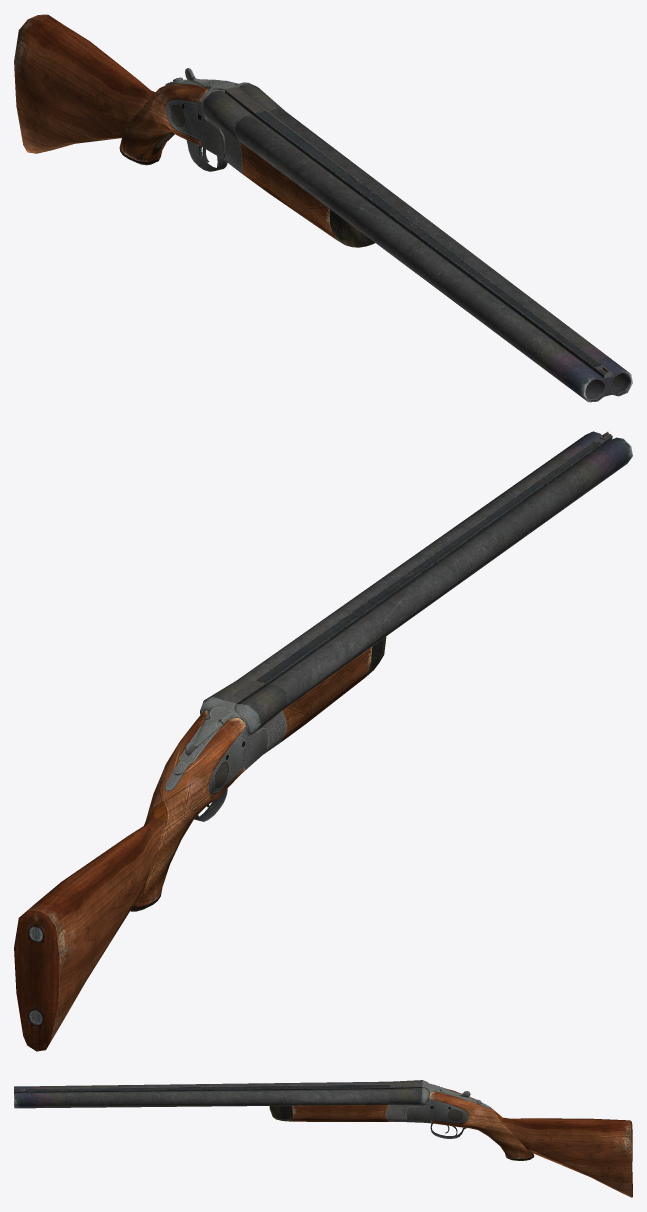
File: Shotgun_sdq_05_Body_Main_(000953).glb
3 renders of one model, top to bottom at view 1: azimuth 30°, elevation 25°; view 2: azimuth 150°, elevation 25°; view 3: azimuth 270°, elevation 25°, orthographic. The views are drawn at different scales.
Visible parts, largest first — view 1: sdq_05; view 2: sdq_05; view 3: sdq_05.
Part boxes in pixels (<box>): sdq_05: <box>14,14,632,402</box>; sdq_05: <box>14,431,632,1051</box>; sdq_05: <box>14,1080,632,1197</box>.
Bounding box in the file's own units: 0.0877 × 0.2985 × 1.49.
Materials: 1 (1 with a texture image).
